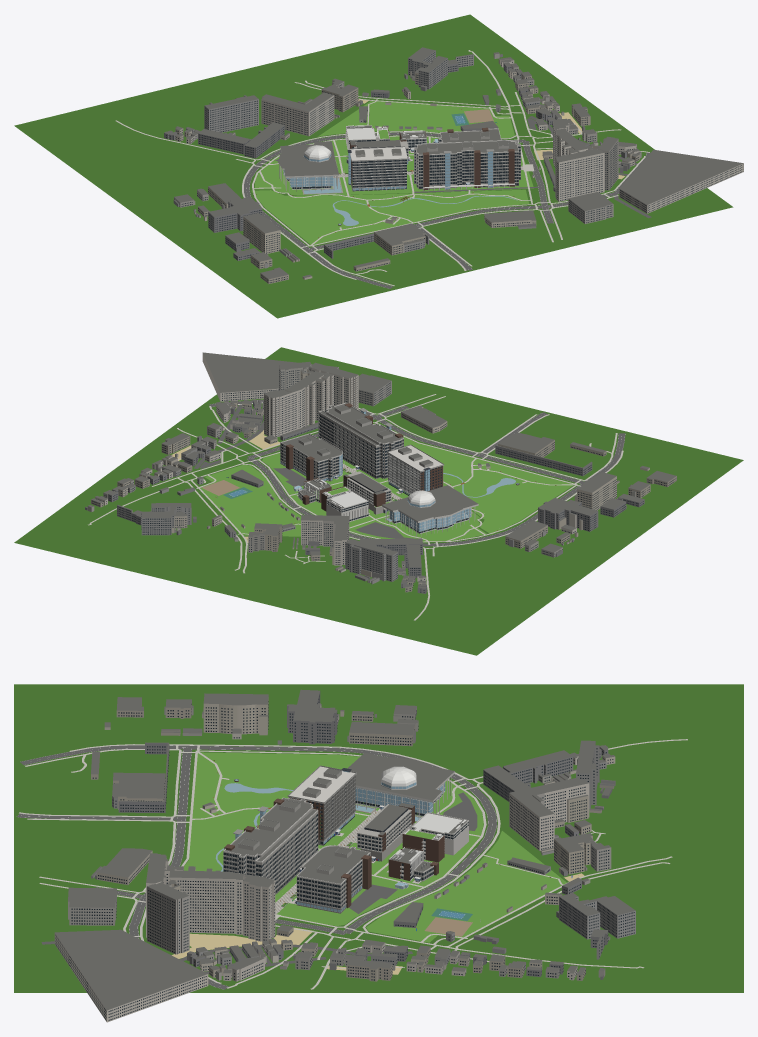
The model's file is campus.fbx.
3 renders of one model, top to bottom at view 1: azimuth 30°, elevation 25°; view 2: azimuth 150°, elevation 25°; view 3: azimuth 270°, elevation 25°, orthographic. The views are drawn at different scales.
Visible parts, largest first — view 1: site_ground, bld_background, bld_research1, bld_kyoso, bld_library, bld_lecture, bld_gym, site_water; view 2: site_ground, bld_background, bld_research1, bld_library, bld_lecture, bld_kyoso, bld_gym, bld_research2; view 3: site_ground, bld_background, bld_research1, bld_library, bld_lecture, bld_kyoso, bld_gym, bld_research2, bld_lab1, site_water.
Part boxes in pixels (box(x1,y1,x2,y2)): site_ground: box(14, 14, 733, 318); bld_background: box(164, 47, 743, 283); bld_research1: box(414, 139, 520, 190); bld_kyoso: box(347, 146, 407, 191); bld_library: box(278, 141, 338, 191); bld_lecture: box(438, 127, 501, 142); bld_gym: box(345, 125, 389, 149); site_water: box(303, 178, 517, 225); site_ground: box(14, 347, 743, 655); bld_background: box(85, 352, 676, 593); bld_research1: box(318, 402, 403, 478); bld_library: box(382, 485, 478, 536); bld_lecture: box(280, 433, 342, 481); bld_kyoso: box(387, 444, 444, 495); bld_gym: box(321, 486, 369, 521); bld_research2: box(343, 471, 393, 514); site_ground: box(14, 684, 743, 992); bld_background: box(54, 689, 635, 1022); bld_research1: box(223, 797, 318, 894); bld_library: box(347, 753, 454, 819); bld_lecture: box(296, 845, 371, 913); bld_kyoso: box(287, 765, 356, 845); bld_gym: box(402, 812, 468, 862); bld_research2: box(357, 803, 416, 861); bld_lab1: box(387, 847, 423, 881); site_water: box(215, 783, 420, 871).
Size of the model in its own units: 767 by 57.95 by 700.
